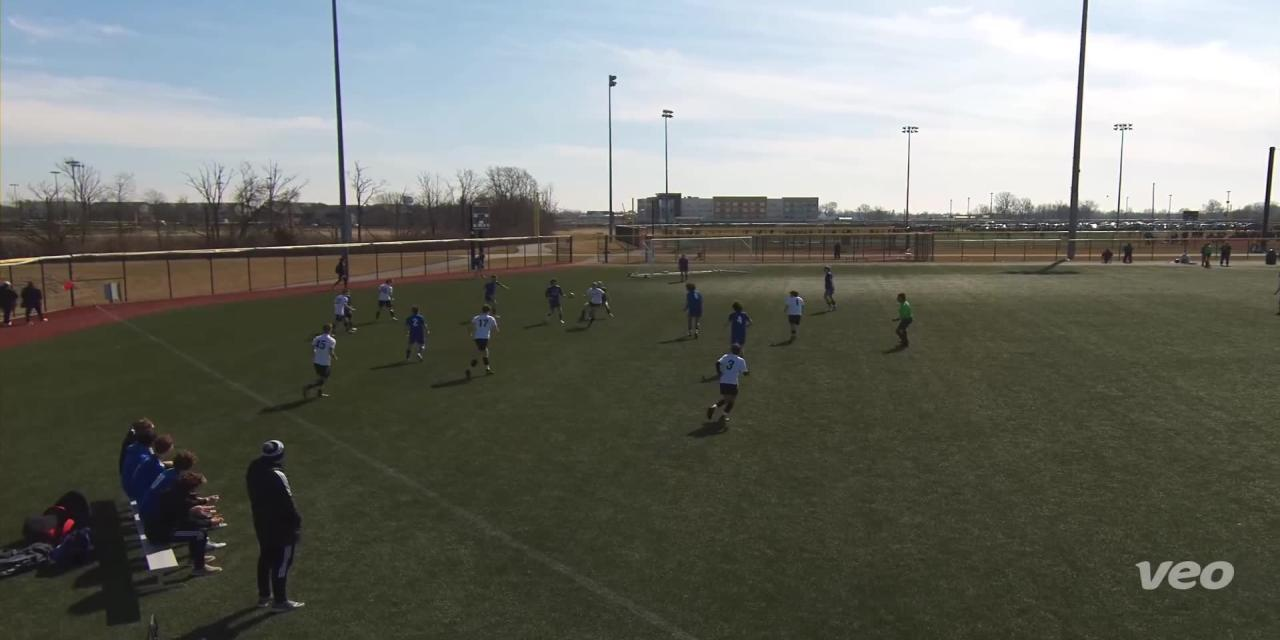goal: (631, 232, 766, 284)
sports ball: (563, 287, 581, 300)
